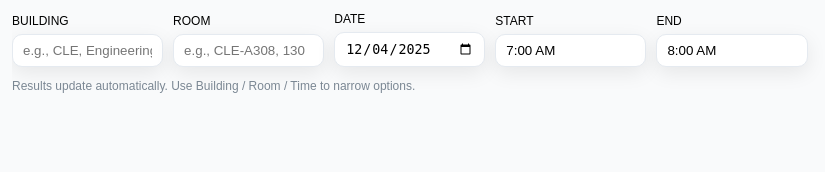
Scenario: <FilterPanel /> › reverts to fallback display when time parse fails
Replace the text in the field with placeholder "e.g., 7:30 AM" below "START" with "25:00" at (571, 51), box [495,34,646,67]
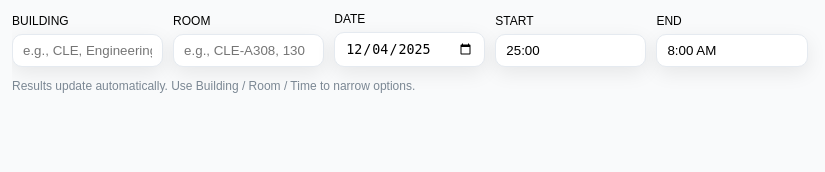
Leave the field with placeholder "e.g., 7:30 AM" below "START", box [495,34,646,67]
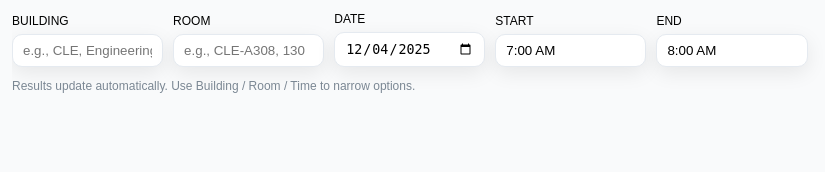
Check: the field with placeholder "e.g., 7:30 AM" below "START" holds "7:00 AM", box [495,34,646,67]
